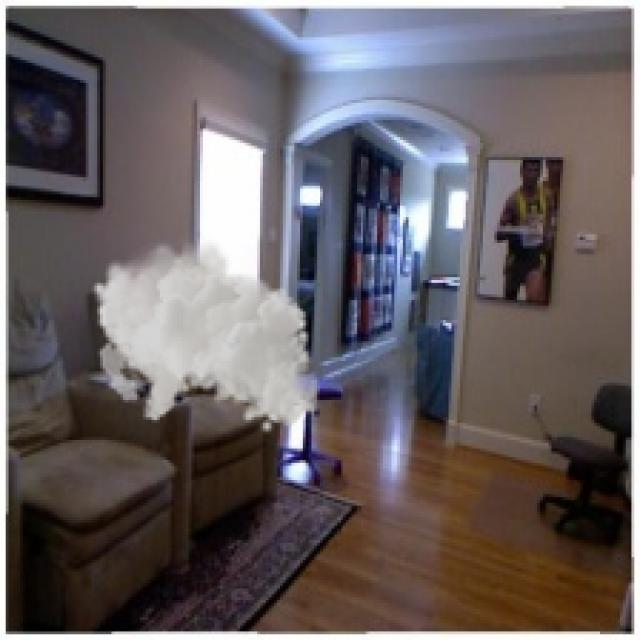smoke: (91, 235, 320, 434)
